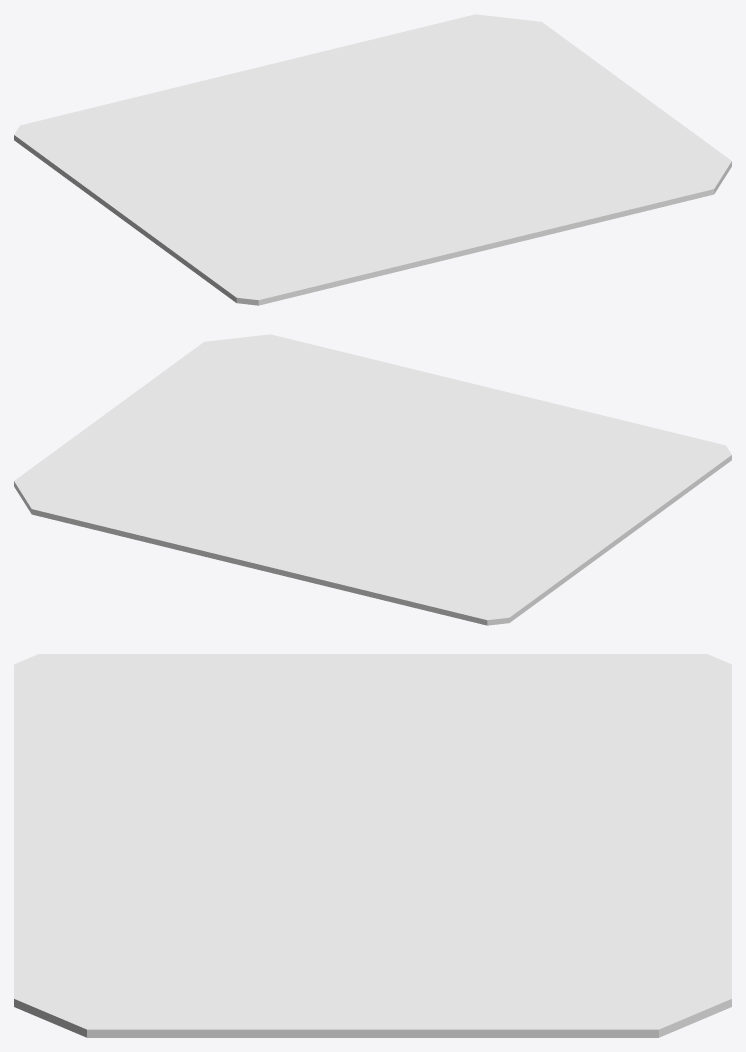
Rendered from PriusTopPlatform1.dae.
3 views of the same model, one above another, from view 1: azimuth 30°, elevation 25°; view 2: azimuth 150°, elevation 25°; view 3: azimuth 270°, elevation 25° (orthographic). The views are drawn at different scales.
Visible parts, largest first — view 1: Top_Plate; view 2: Top_Plate; view 3: Top_Plate.
Part boxes in pixels (x1=…): Top_Plate: x1=14, y1=14, x2=731, y2=305; Top_Plate: x1=14, y1=334, x2=731, y2=625; Top_Plate: x1=14, y1=654, x2=731, y2=1037.
Size of the model in its own units: 1.86 by 1.51 by 0.019.
Materials: 1 (1 with a texture image).
